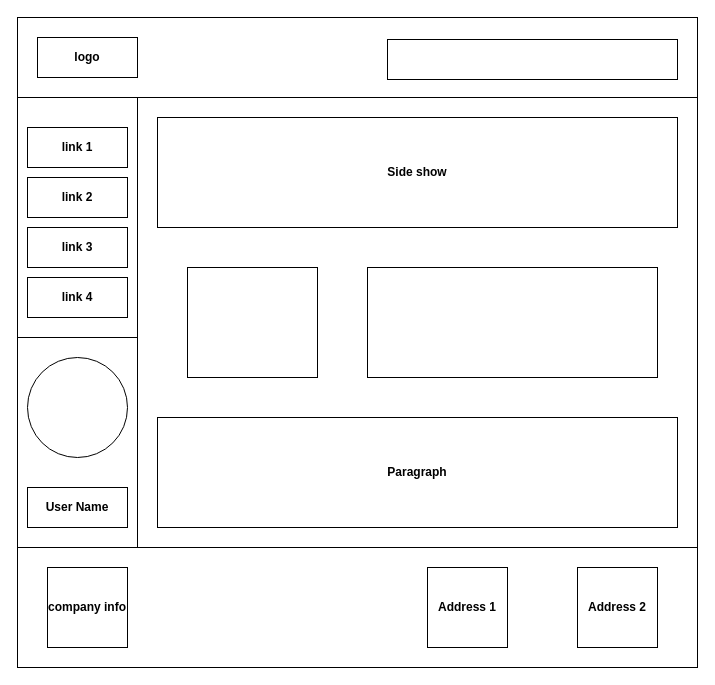
This 715x685 diagram has some shape labels left out. Each missing label, with the centre of its shape:
Description: the point at 512,322
image: the point at 77,407
New Link: the point at 532,59
User Image: the point at 252,322
